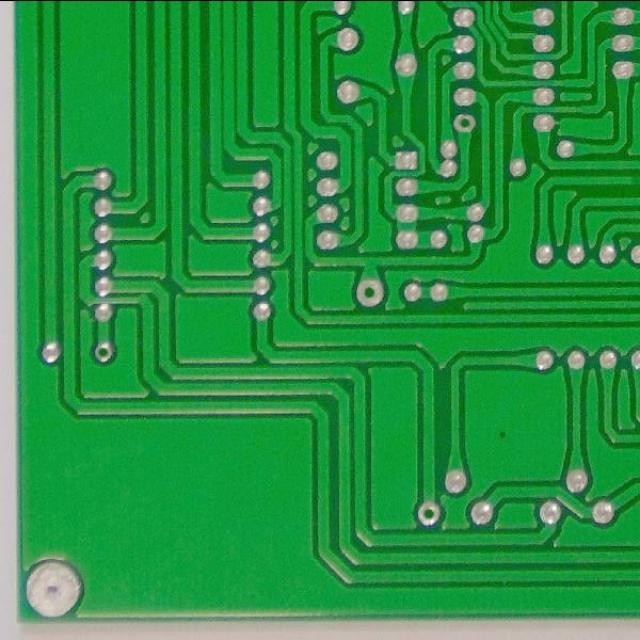Missing_Hole: (352, 276, 387, 308), (414, 499, 443, 527), (453, 111, 477, 134), (92, 340, 115, 364)
